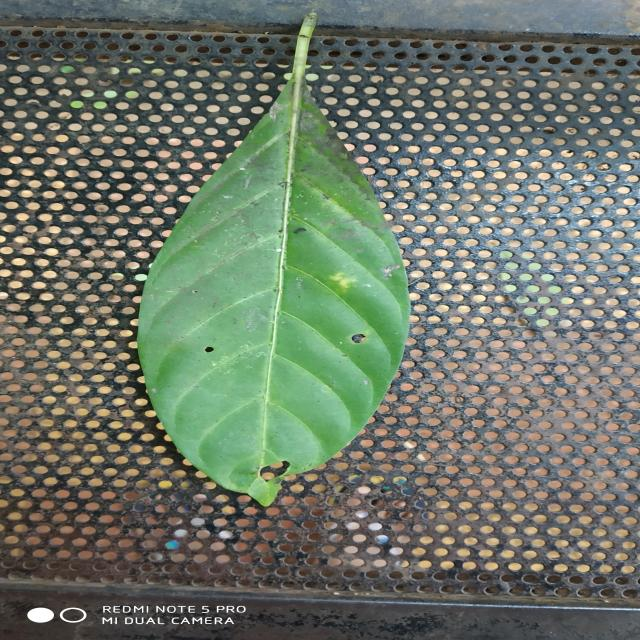anthracnosenooni: (138, 14, 409, 506)
